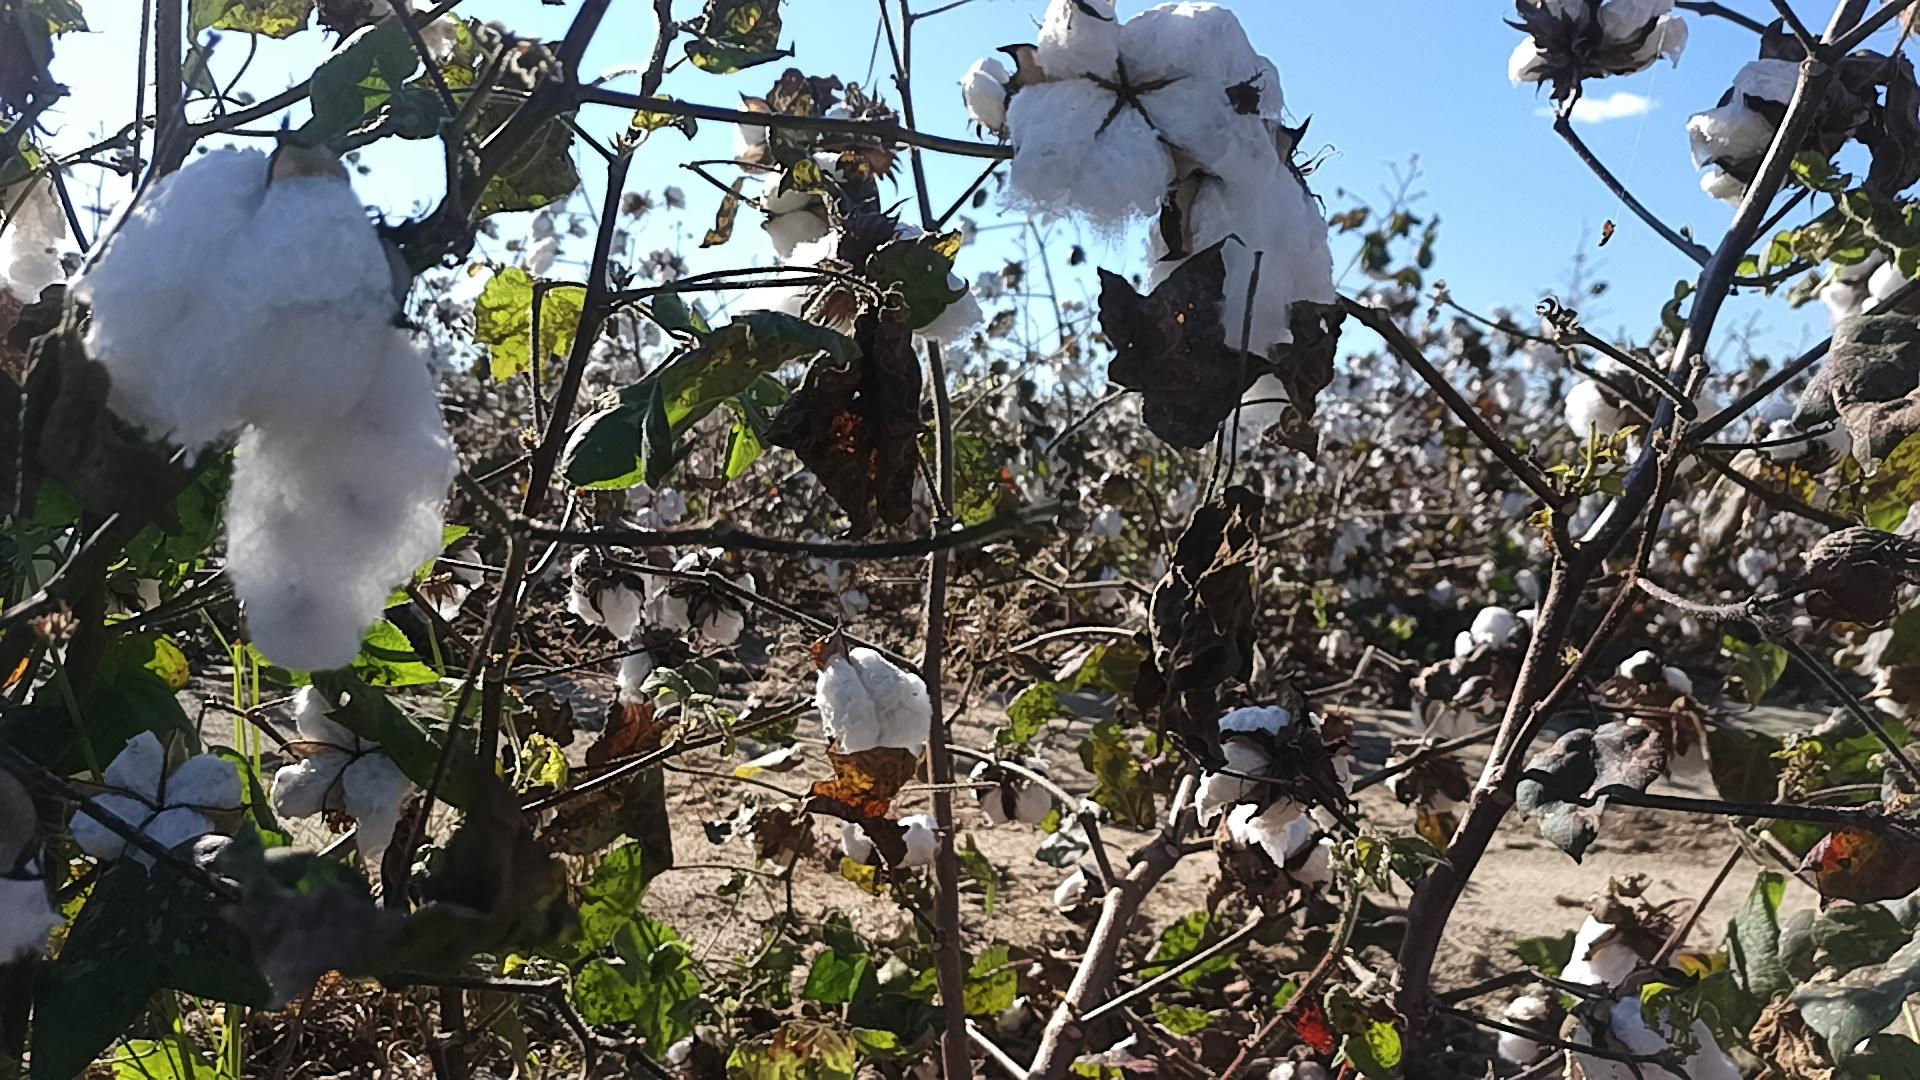cotton_ready: (73, 141, 398, 462), (224, 331, 465, 678), (1139, 113, 1340, 429), (997, 0, 1237, 253), (274, 675, 427, 866), (71, 727, 245, 873), (1567, 347, 1730, 476), (1196, 704, 1354, 836), (1691, 55, 1828, 206), (1153, 0, 1291, 132), (1506, 0, 1688, 91), (1571, 997, 1745, 1080), (814, 650, 934, 754), (1228, 802, 1338, 899), (754, 152, 851, 260), (661, 550, 760, 646), (1815, 235, 1920, 323), (1560, 906, 1646, 1005), (570, 545, 650, 642), (901, 260, 984, 344), (0, 877, 62, 964), (961, 51, 1007, 133)
